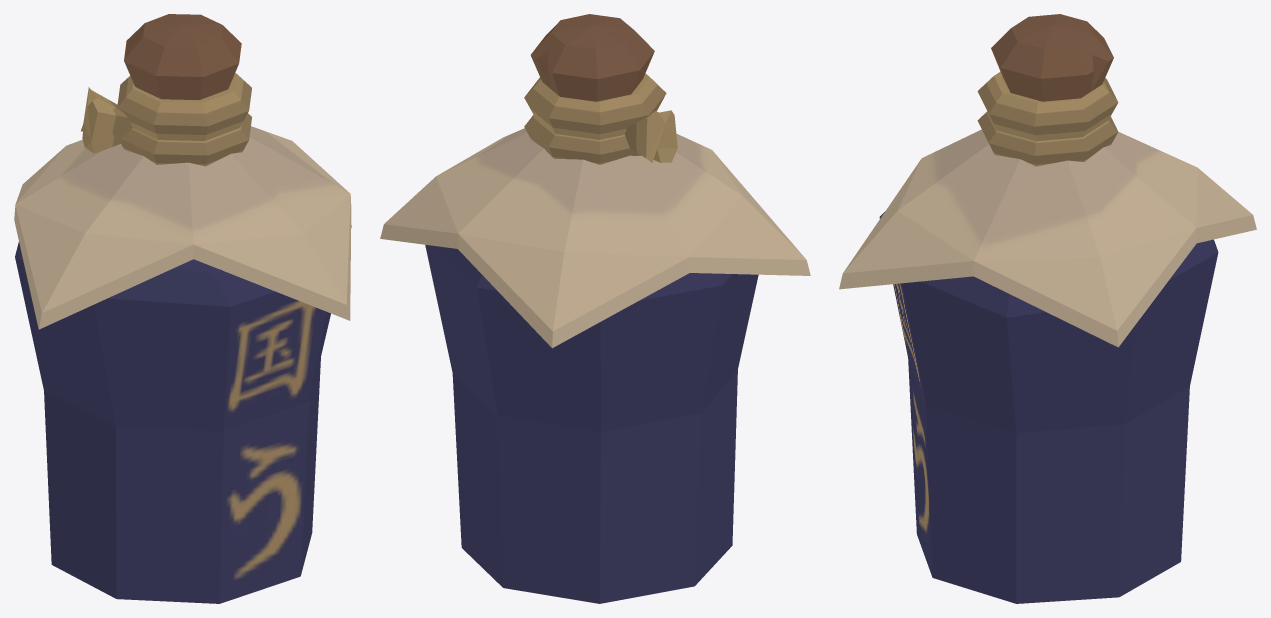
Rendered from samurai_SM_Prop_Sake_Bottle_03.gltf.
3 renders of one model, left to right at view 1: azimuth 30°, elevation 25°; view 2: azimuth 150°, elevation 25°; view 3: azimuth 270°, elevation 25°, orthographic.
Parts seen in each view (by area): view 1: SM_Prop_Sake_Bottle_03; view 2: SM_Prop_Sake_Bottle_03; view 3: SM_Prop_Sake_Bottle_03.
Part boxes in pixels (bbox=[...]): SM_Prop_Sake_Bottle_03: bbox=[14, 14, 351, 603]; SM_Prop_Sake_Bottle_03: bbox=[380, 14, 810, 603]; SM_Prop_Sake_Bottle_03: bbox=[839, 14, 1256, 603].
Size of the model in its own units: 0.2341 by 0.3235 by 0.2339.
Materials: 1 (1 with a texture image).
